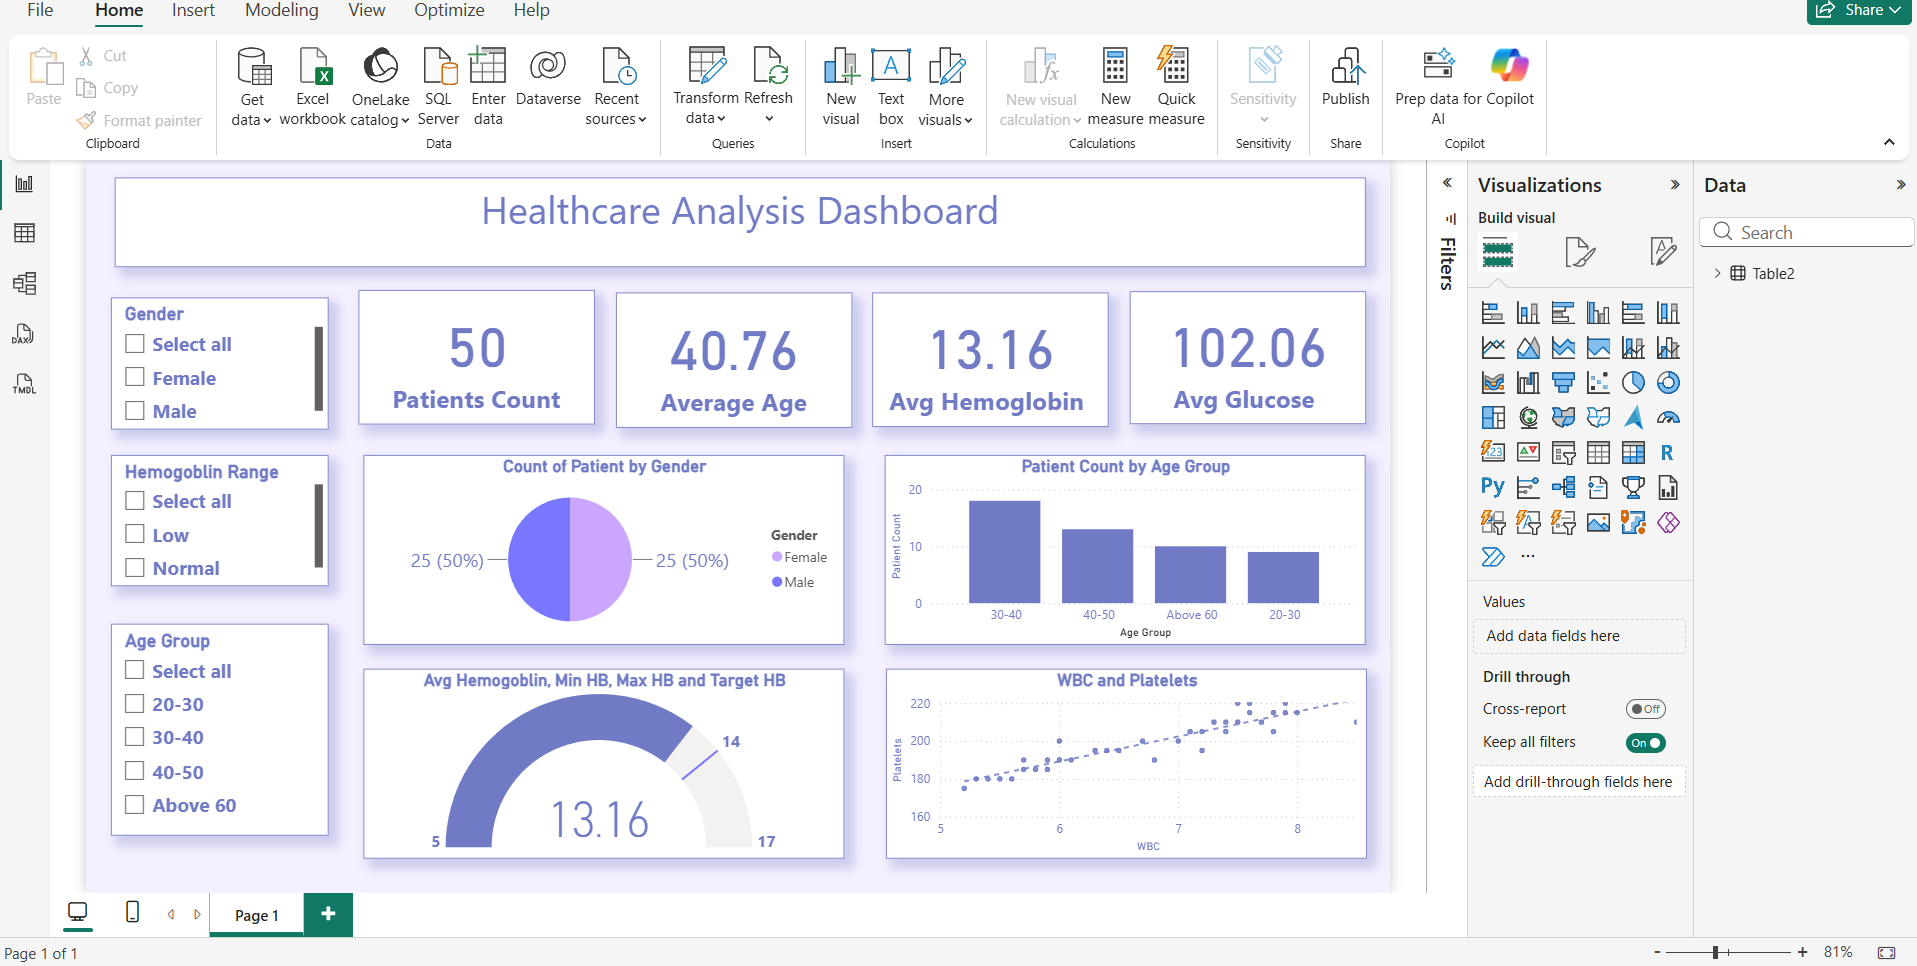

Layout of this report page (visuals, bound fields, positions):
{"tool":"powerbi","page":{"name":"Page 1","canvas":[1280,720],"ordinal":0},"visuals":[{"type":"card","fields":{"Values":["CountNonNull(Table2.PatientID)"]},"box":[267.6,127.6,232,131.7],"z":0,"group":"g1"},{"type":"textbox","box":[28.7,17.1,1228.2,88.3],"z":1000,"group":"g3"},{"type":"card","fields":{"Values":["Avg(Table2.Age)"]},"box":[520,130.3,232,133.1],"z":1000,"group":"g1"},{"type":"clusteredColumnChart","fields":{"Category":["Table2.Age Group"],"Y":["CountNonNull(Table2.PatientID)"]},"box":[784.8,289.5,472.2,186.6],"z":1000,"group":"g2"},{"type":"group","id":"g1","title":"Group 1","box":[267.6,127.6,989.4,135.8],"z":2000,"group":"g3"},{"type":"card","fields":{"Values":["Avg(Table2.Hemoglobin (g/dL))"]},"box":[772.5,130.3,232,131.7],"z":2000,"group":"g1"},{"type":"pieChart","fields":{"Category":["Table2.Gender"],"Y":["CountNonNull(Table2.PatientID)"]},"box":[273.1,289.5,472.2,186.6],"z":2000,"group":"g2"},{"type":"card","fields":{"Values":["Avg(Table2.Glucose (mg/dL))"]},"box":[1024.9,129,232,130.4],"z":3000,"group":"g1"},{"type":"group","id":"g2","title":"Group 2","box":[273.1,289.5,983.9,186.6],"z":3000,"group":"g3"},{"type":"gauge","fields":{"MaxValue":["Table2.Maximum HB"],"MinValue":["Table2.Minimum HB"],"TargetValue":["Table2.Target HB"],"Y":["Table2.Avg Hemogoblin"]},"box":[273.1,499.5,472,186.6],"z":4000,"group":"g3"},{"type":"scatterChart","fields":{"X":["Table2.WBC (x10^9/L)"],"Y":["Table2.Platelets (x10^9/L)"]},"box":[785.3,499.4,472.4,186.5],"z":5000,"group":"g3"},{"type":"slicer","fields":{"Values":["Table2.Gender"]},"box":[24.9,134.3,214,129.4],"z":6000,"group":"g3"},{"type":"slicer","fields":{"Values":["Table2.Hemogoblin Range"]},"box":[24.5,289.6,213.5,128.8],"z":6000},{"type":"slicer","fields":{"Values":["Table2.Age Group"]},"box":[24.9,455.3,214,207.7],"z":8000,"group":"g3"},{"type":"group","id":"g3","title":"Group 3","box":[24.9,17.1,1232.8,669],"z":8001}]}

Visuals, with their boxes on the page's 1280x720 design canvas (x1, y1, x2, y2). These are canvas units, not pixel positions in the 1917x966 screenshot, which may show the page scaled, cropped or inside an application window:
card - CountNonNull(Table2.PatientID): <region>268, 128, 500, 259</region>
textbox: <region>29, 17, 1257, 105</region>
card - Avg(Table2.Age): <region>520, 130, 752, 263</region>
clusteredColumnChart - Table2.Age Group x CountNonNull(Table2.PatientID): <region>785, 290, 1257, 476</region>
"Group 1" group: <region>268, 128, 1257, 263</region>
card - Avg(Table2.Hemoglobin (g/dL)): <region>772, 130, 1004, 262</region>
pieChart - Table2.Gender x CountNonNull(Table2.PatientID): <region>273, 290, 745, 476</region>
card - Avg(Table2.Glucose (mg/dL)): <region>1025, 129, 1257, 259</region>
"Group 2" group: <region>273, 290, 1257, 476</region>
gauge - Table2.Maximum HB x Table2.Minimum HB: <region>273, 500, 745, 686</region>
scatterChart - Table2.WBC (x10^9/L) x Table2.Platelets (x10^9/L): <region>785, 499, 1258, 686</region>
slicer - Table2.Gender: <region>25, 134, 239, 264</region>
slicer - Table2.Hemogoblin Range: <region>24, 290, 238, 418</region>
slicer - Table2.Age Group: <region>25, 455, 239, 663</region>
"Group 3" group: <region>25, 17, 1258, 686</region>
